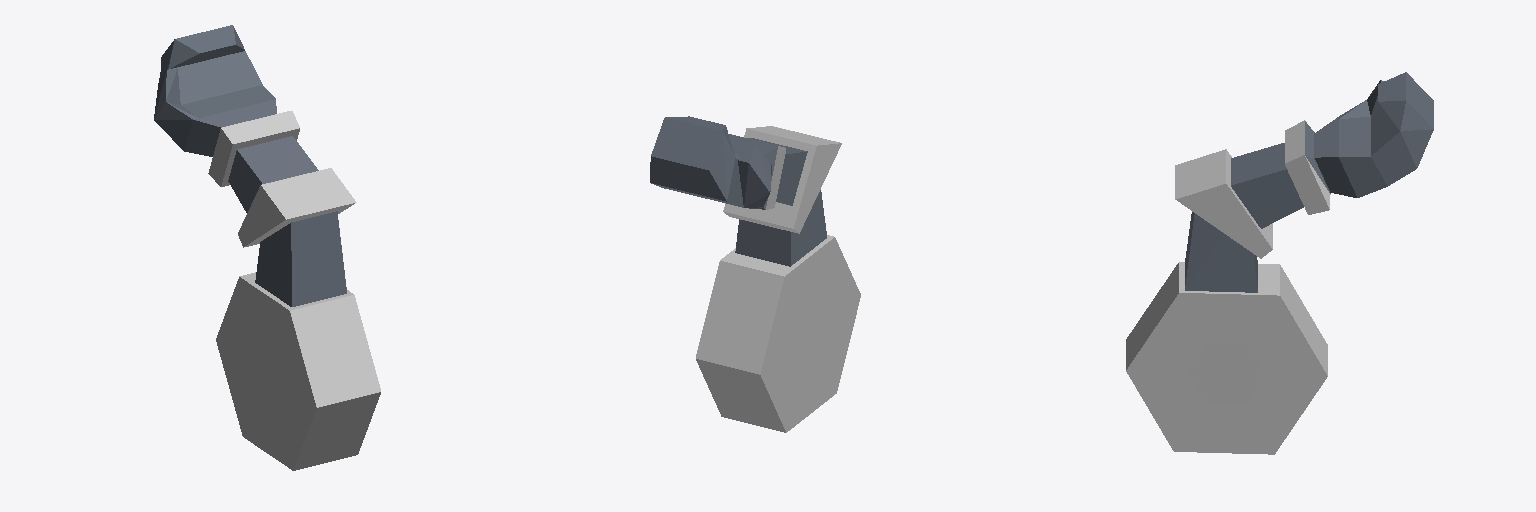
Rendered from arm_upper_L.obj.
The picture shows the model from 3 angles: view 1: azimuth 30°, elevation 25°; view 2: azimuth 150°, elevation 25°; view 3: azimuth 270°, elevation 25°; orthographic projection.
Parts seen in each view (by area): view 1: robo_Untitled.015; view 2: robo_Untitled.015; view 3: robo_Untitled.015.
Boxes of the visible parts, <box> form: robo_Untitled.015: <box>154,25,380,470</box>; robo_Untitled.015: <box>650,116,860,432</box>; robo_Untitled.015: <box>1126,72,1433,454</box>.
Size of the model in its own units: 0.4472 by 1.43 by 1.14.